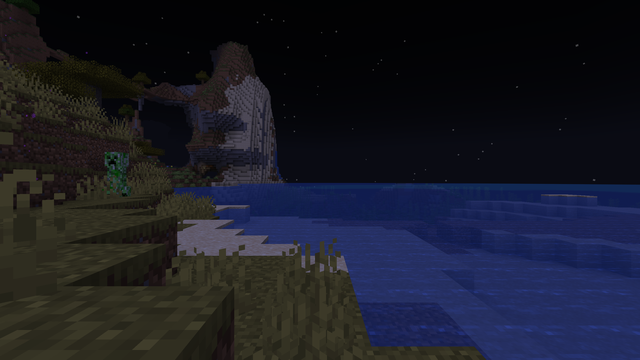creepers: (102, 149, 131, 196)
